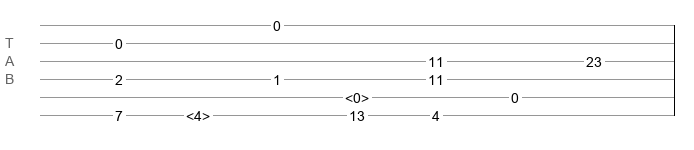0: (115, 36, 123, 46), (273, 18, 281, 28), (511, 90, 519, 100)
1: (273, 72, 281, 82)
11: (428, 72, 444, 82), (428, 54, 444, 64)
13: (349, 108, 365, 118)
2: (115, 72, 123, 82)
23: (586, 54, 602, 64)
4: (432, 108, 440, 118)
7: (115, 108, 123, 118)
harmonic: (186, 108, 210, 118), (345, 90, 369, 100)
